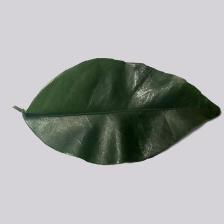healthy: (26, 62, 204, 154)
